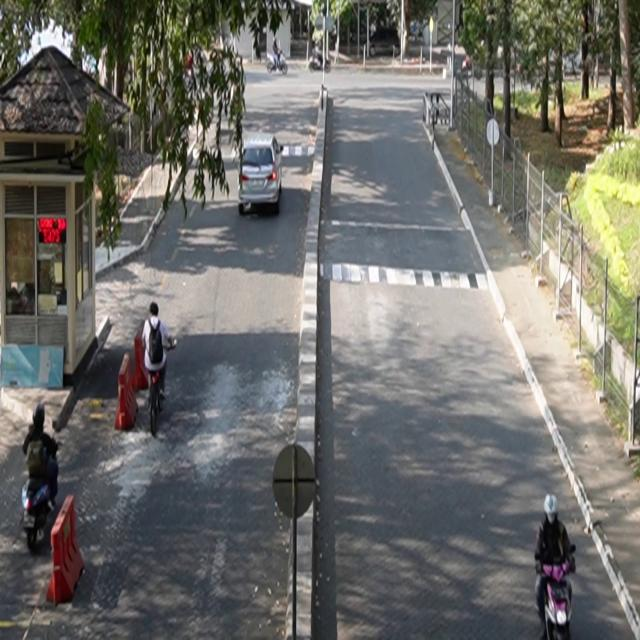car: (239, 134, 285, 217)
